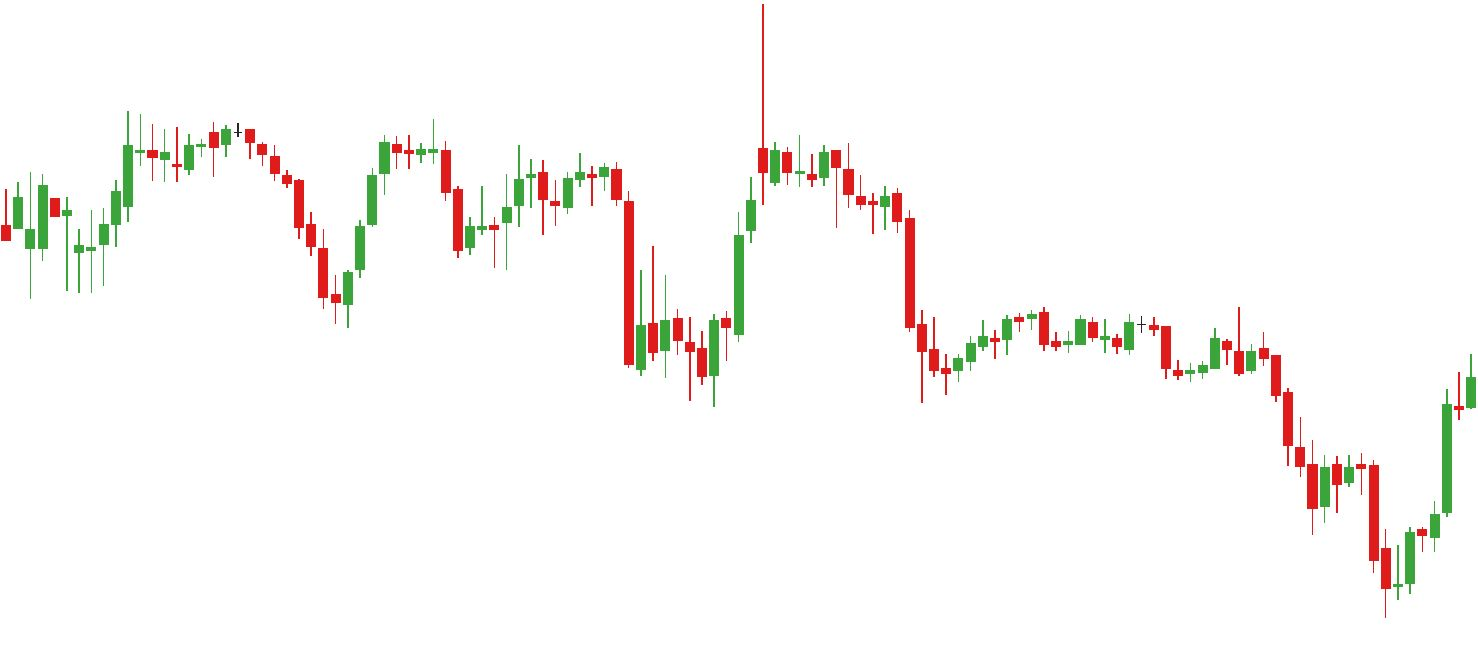buy: (71, 170, 354, 328)
sell: (1137, 300, 1248, 366)
